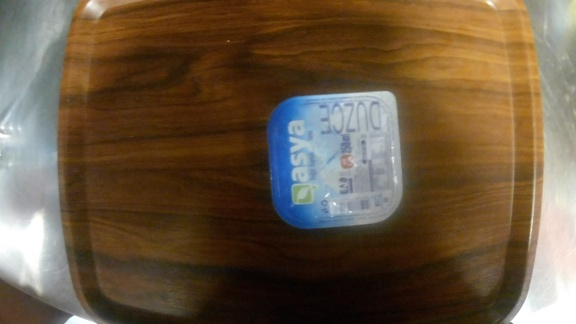kucuksu: (253, 89, 406, 234)
